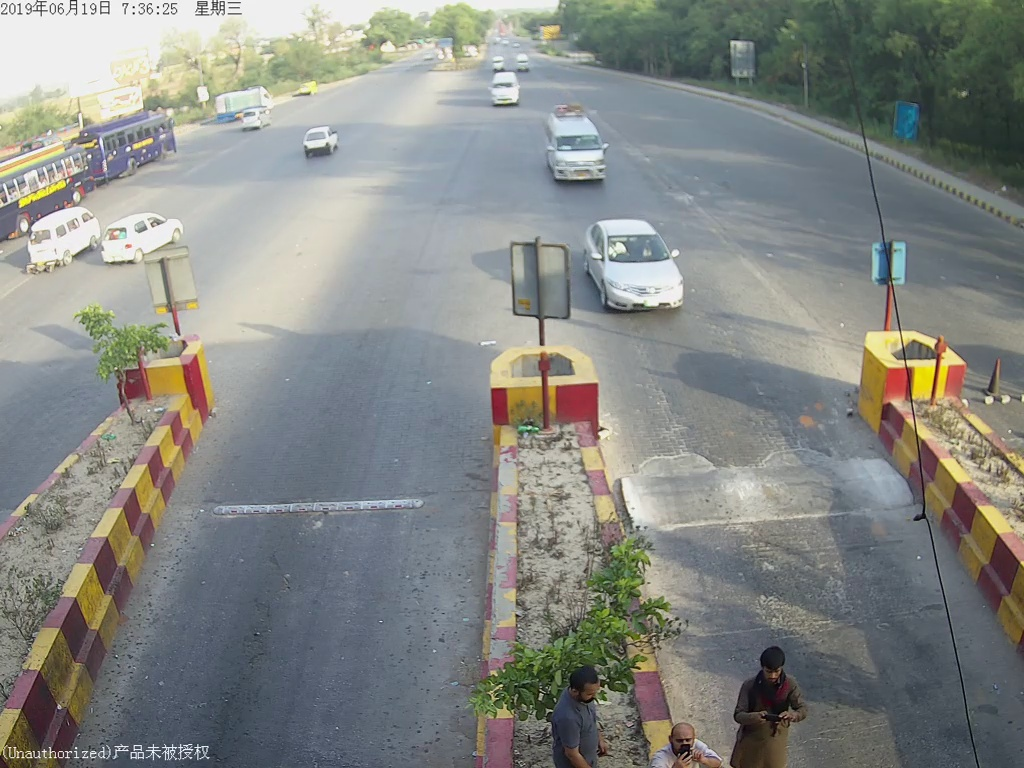Cat-1: (583, 215, 691, 313)
Cat-2: (543, 105, 612, 183), (489, 65, 523, 109)
